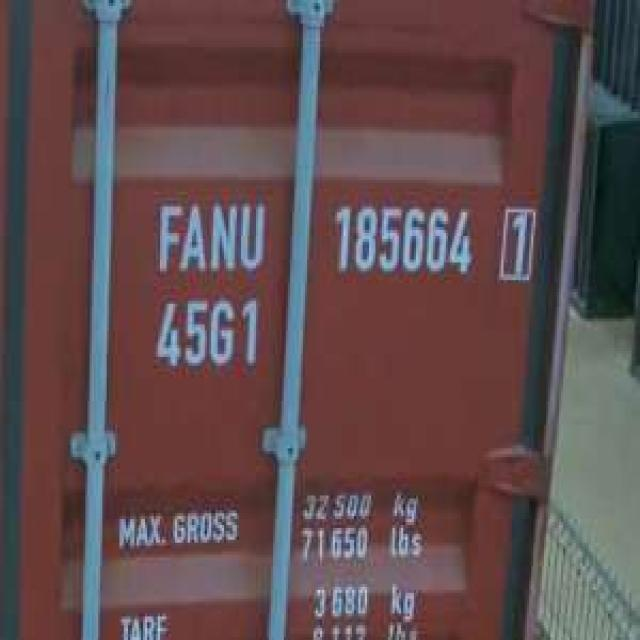dv: (493, 198, 540, 289)
owner: (149, 192, 269, 280)
serial: (326, 195, 478, 286)
size: (147, 289, 267, 378)
